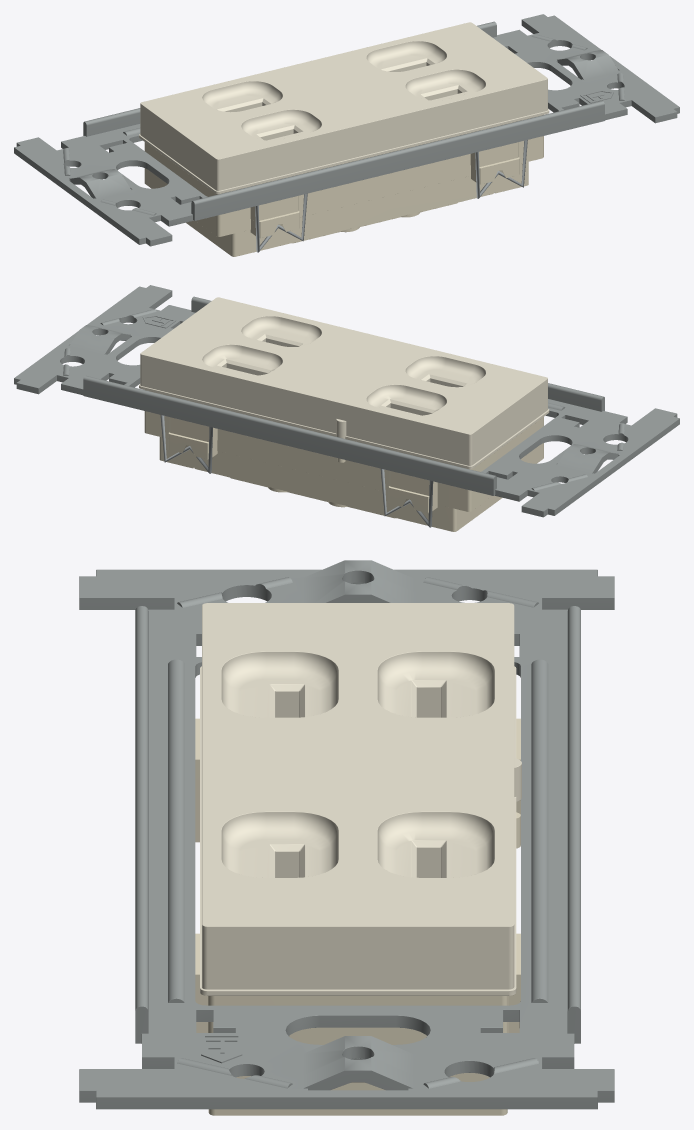
Rendered from outlet_double.glb.
3 renders of one model, top to bottom at view 1: azimuth 30°, elevation 25°; view 2: azimuth 150°, elevation 25°; view 3: azimuth 270°, elevation 25°, orthographic. The views are drawn at different scales.
Parts seen in each view (by area): view 1: CoverResin, FrameSteel, BodyResin, SpringWire; view 2: CoverResin, FrameSteel, BodyResin, SpringWire; view 3: CoverResin, FrameSteel, BodyResin.
Part boxes in pixels (bbox=[...]): CoverResin: bbox=[139, 22, 549, 193]; FrameSteel: bbox=[14, 14, 679, 246]; BodyResin: bbox=[144, 115, 543, 256]; SpringWire: bbox=[255, 140, 527, 252]; CoverResin: bbox=[139, 297, 549, 468]; FrameSteel: bbox=[14, 285, 679, 517]; BodyResin: bbox=[144, 390, 543, 531]; SpringWire: bbox=[160, 415, 433, 527]; CoverResin: bbox=[200, 603, 521, 995]; FrameSteel: bbox=[79, 560, 614, 1109]; BodyResin: bbox=[195, 718, 520, 1115].
Size of the model in its own units: 0.112 by 0.0217 by 0.048.
